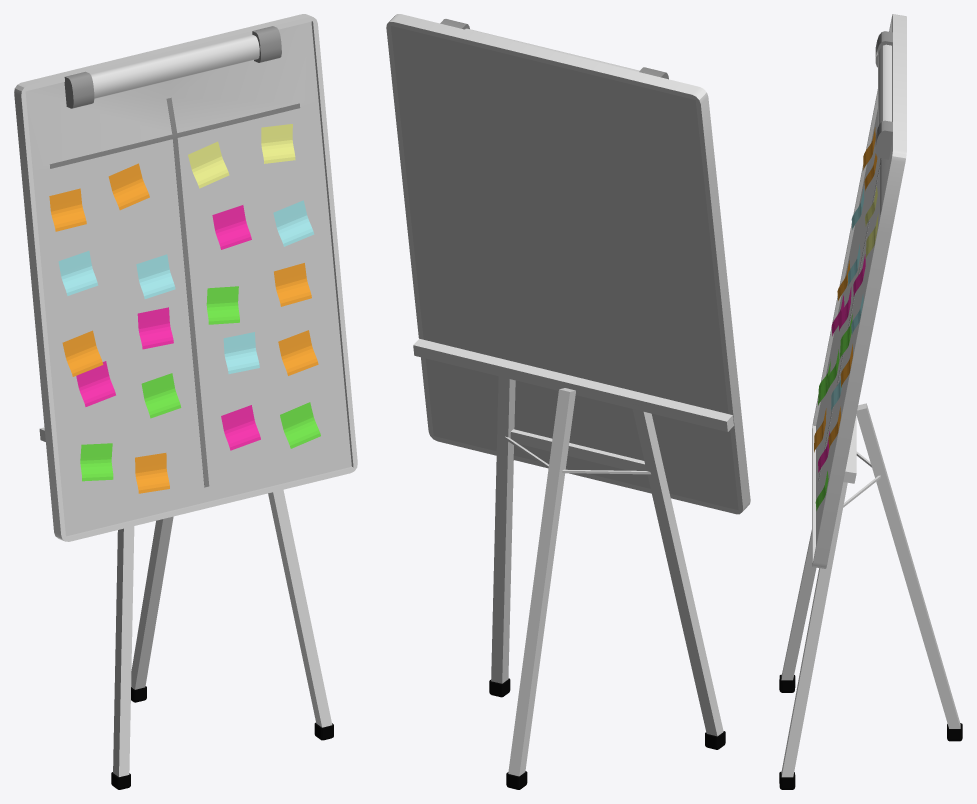
Rendered from FlipChart.fbx.
3 views of the same model, side by side, from view 1: azimuth 30°, elevation 25°; view 2: azimuth 150°, elevation 25°; view 3: azimuth 270°, elevation 25° (orthographic). The views are drawn at different scales.
Visible parts, largest first — view 1: Clipboard; view 2: Clipboard; view 3: Clipboard.
Boxes of the visible parts, x1,y1,x2,y2 form: Clipboard: (14,14,357,789); Clipboard: (386,14,750,789); Clipboard: (779,14,962,789).
Bounding box in the file's own units: 71.21 × 154 × 38.88.
